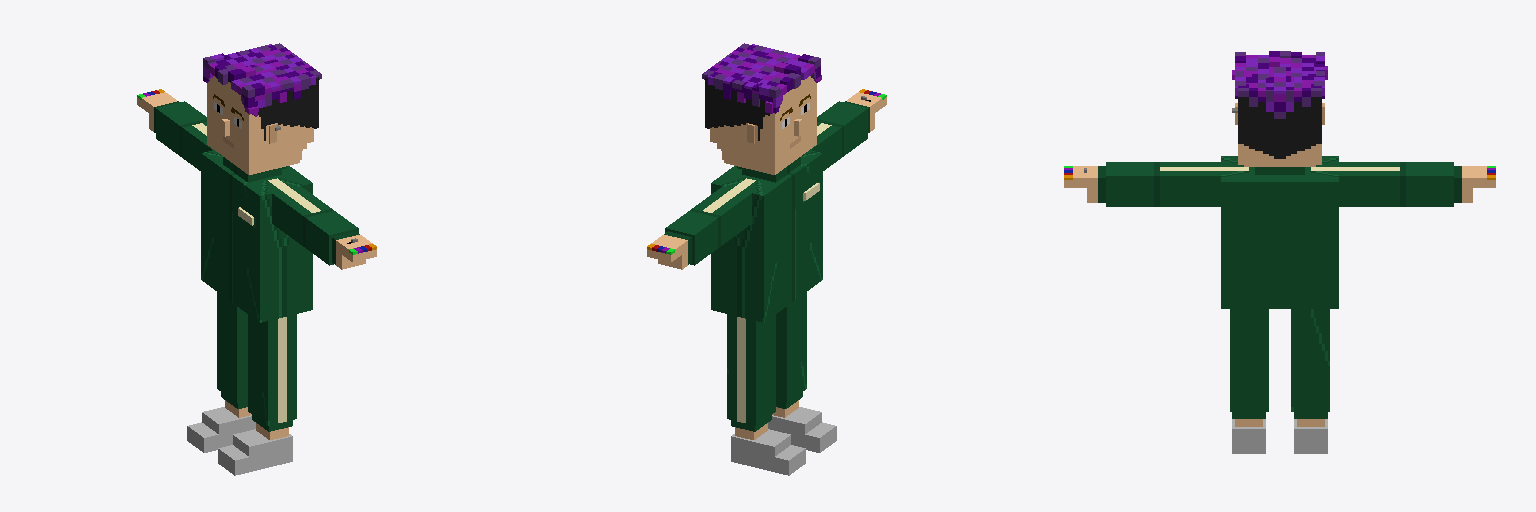
3 views of the same model, side by side, from view 1: azimuth 30°, elevation 25°; view 2: azimuth 150°, elevation 25°; view 3: azimuth 270°, elevation 25° (orthographic).
Parts seen in each view (by area): view 1: object 1; view 2: object 1; view 3: object 1.
Boxes of the visible parts, box(x1,y1,x2,y2) form: object 1: box(137, 43, 376, 475); object 1: box(647, 43, 886, 475); object 1: box(1064, 51, 1495, 453).
Size of the model in its own units: 3.7 by 15.1 by 15.4.
Materials: 1 (1 with a texture image).